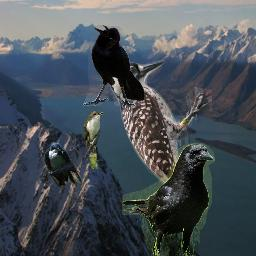Crow: (122, 143, 215, 256), (83, 25, 144, 108)
Cuckoo: (84, 109, 104, 169)
Swallow: (43, 142, 83, 190)
Woodpecker: (109, 60, 212, 213)
